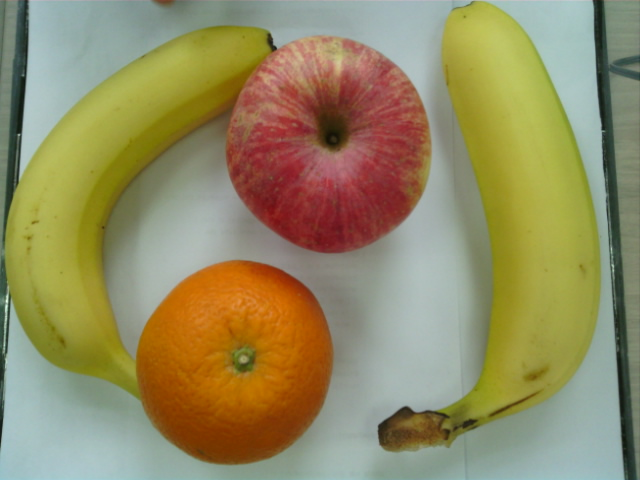normal_apple: (227, 35, 433, 255)
normal_banana: (2, 26, 274, 365), (436, 2, 607, 453)
normal_orange: (135, 259, 336, 472)
